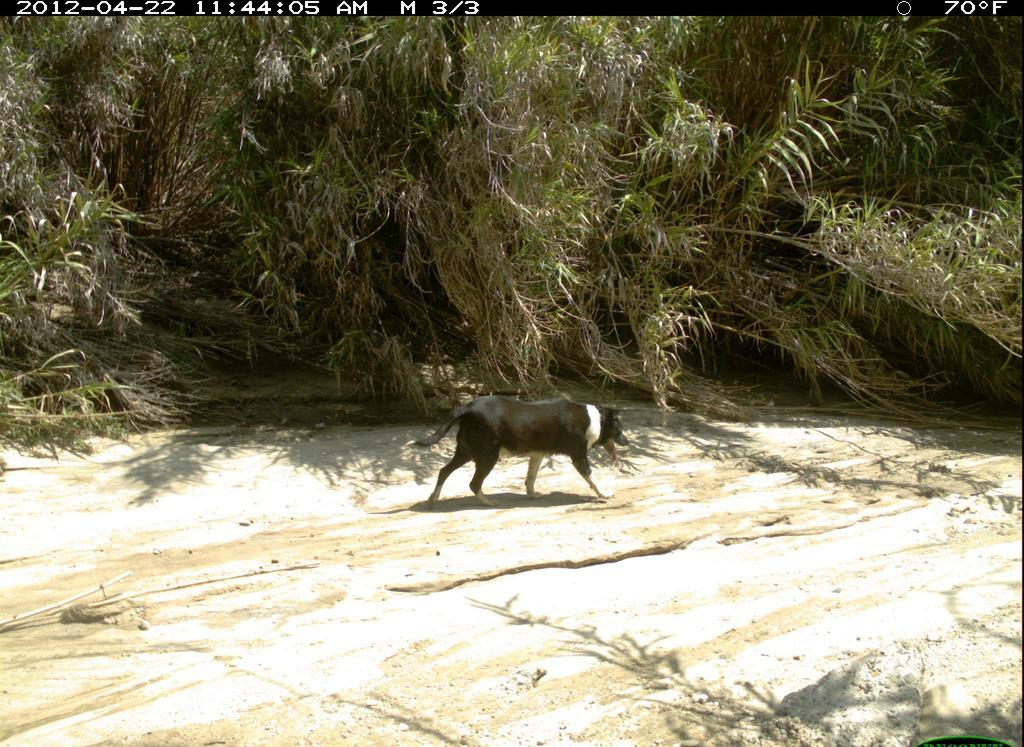dog: (404, 393, 633, 513)
